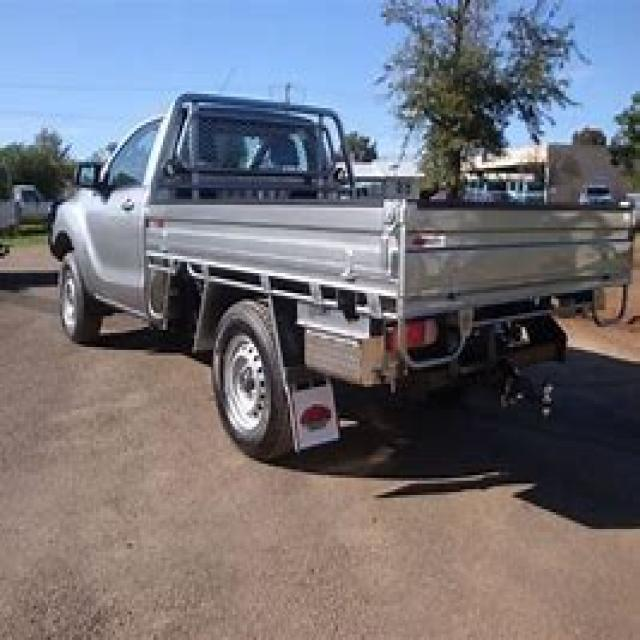light_vehicle: (45, 74, 626, 469)
